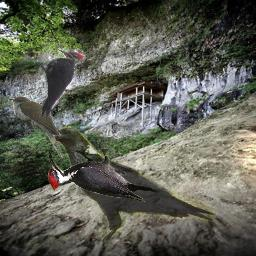Crow: (41, 126, 217, 245)
Cuckoo: (8, 96, 65, 161)
Woodpecker: (48, 149, 157, 202), (37, 48, 86, 117)
